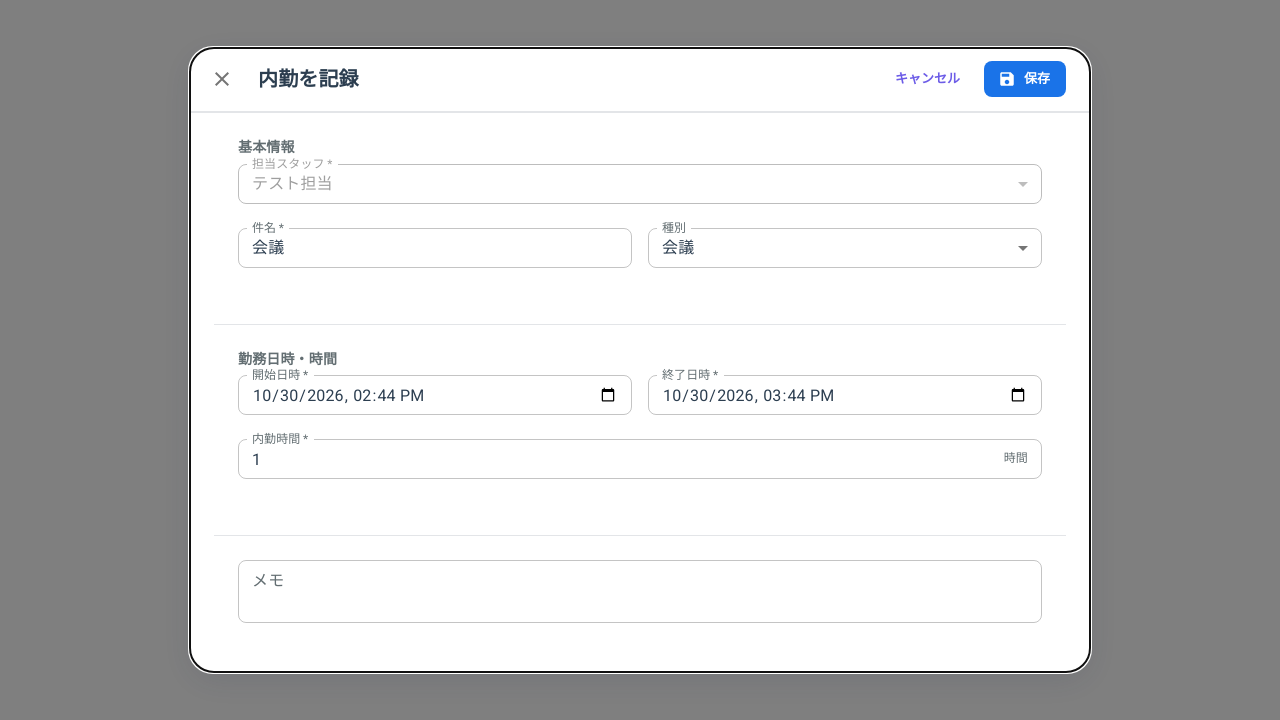
InternalWorkDialog record UI › shows the existing title and hours constraints by their inputs before saving
Clear the field labelled "件名" at (435, 248), box x1=238 y1=228 x2=632 y2=268
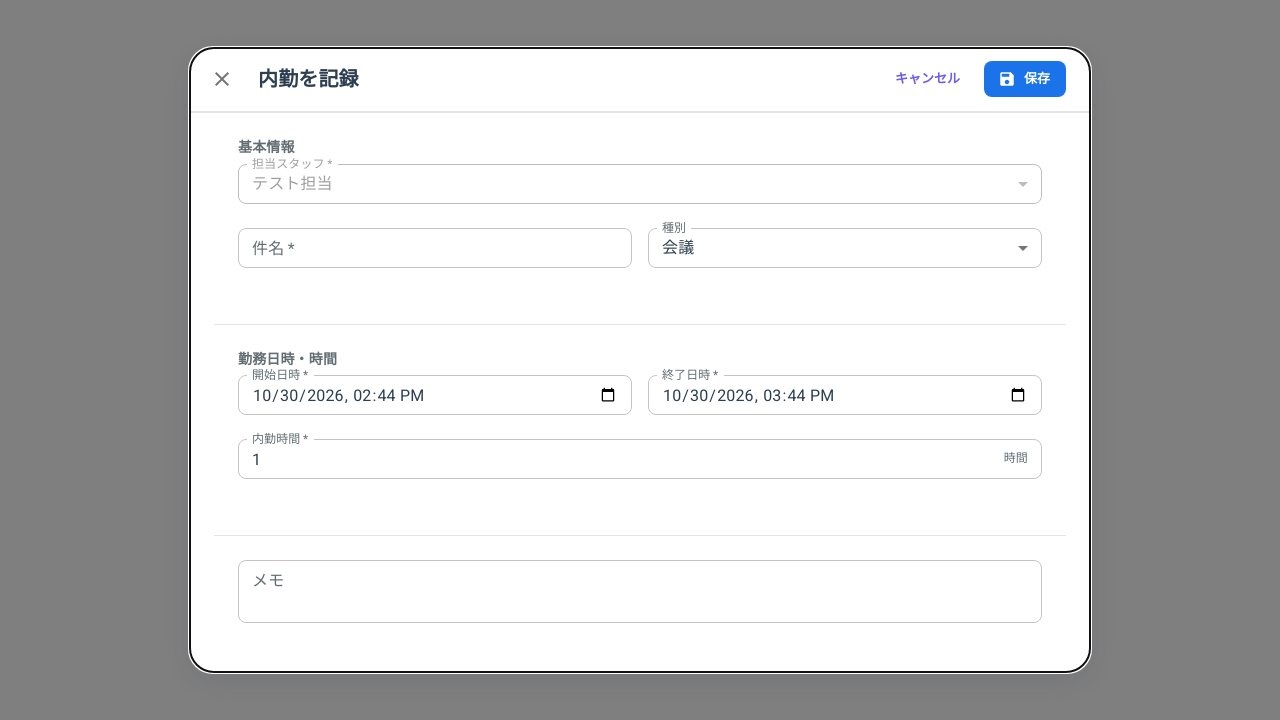
Replace the text in the number field labelled "内勤時間" with "0" at (617, 459), box x1=238 y1=439 x2=996 y2=479
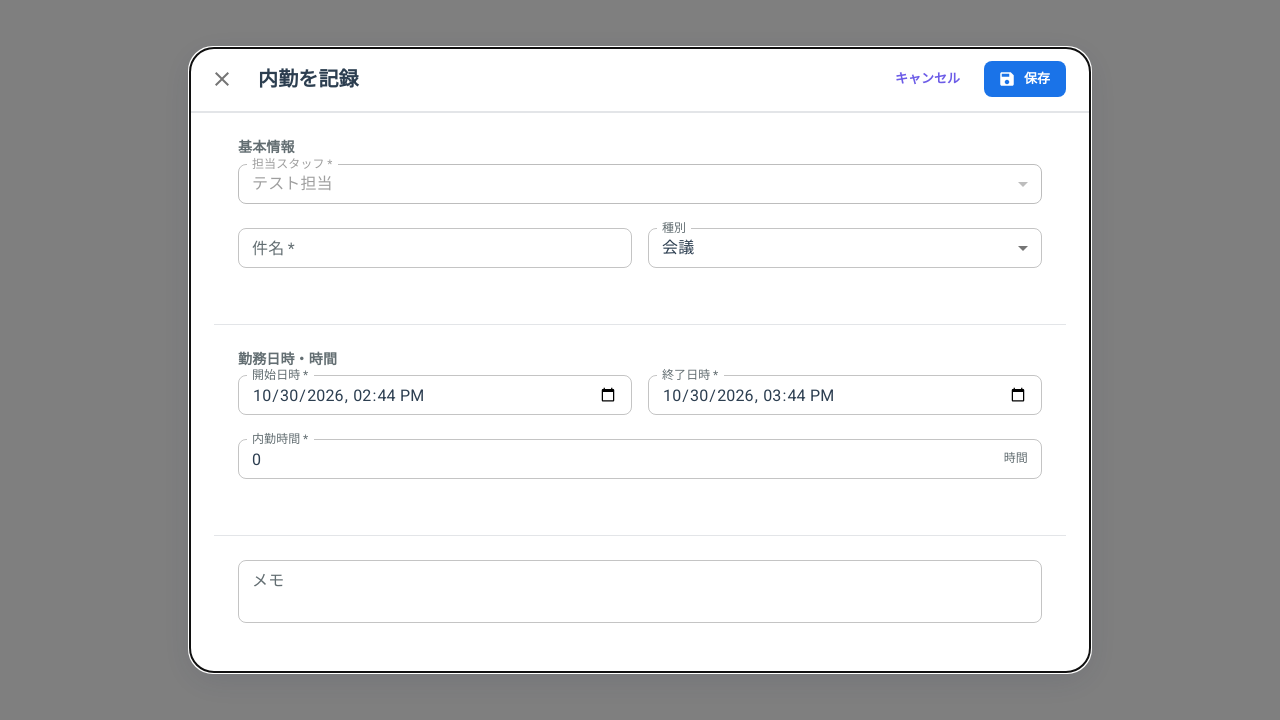
Click the button "保存" at (1025, 79), box x1=984 y1=61 x2=1066 y2=97
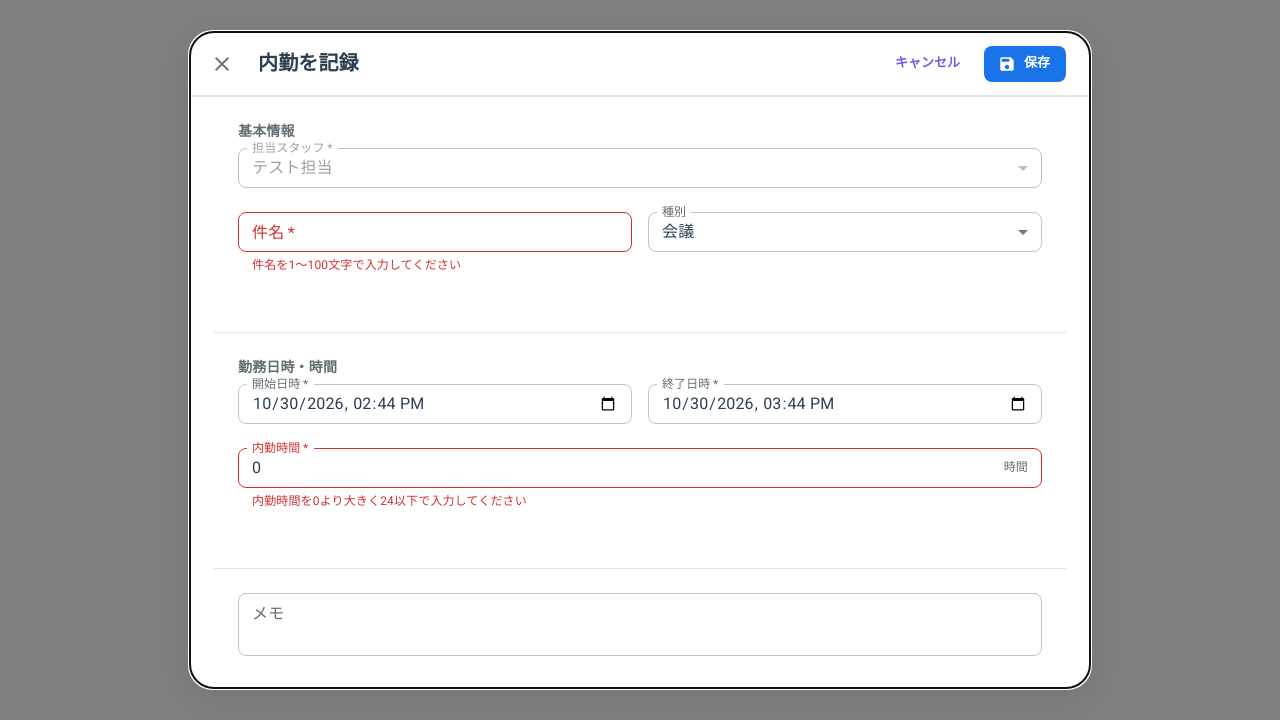
Check: the text "件名を1〜100文字で入力してください" is shown, box x1=252 y1=258 x2=461 y2=272
Check: the text "内勤時間を0より大きく24以下で入力してください" is shown, box x1=252 y1=494 x2=527 y2=508
